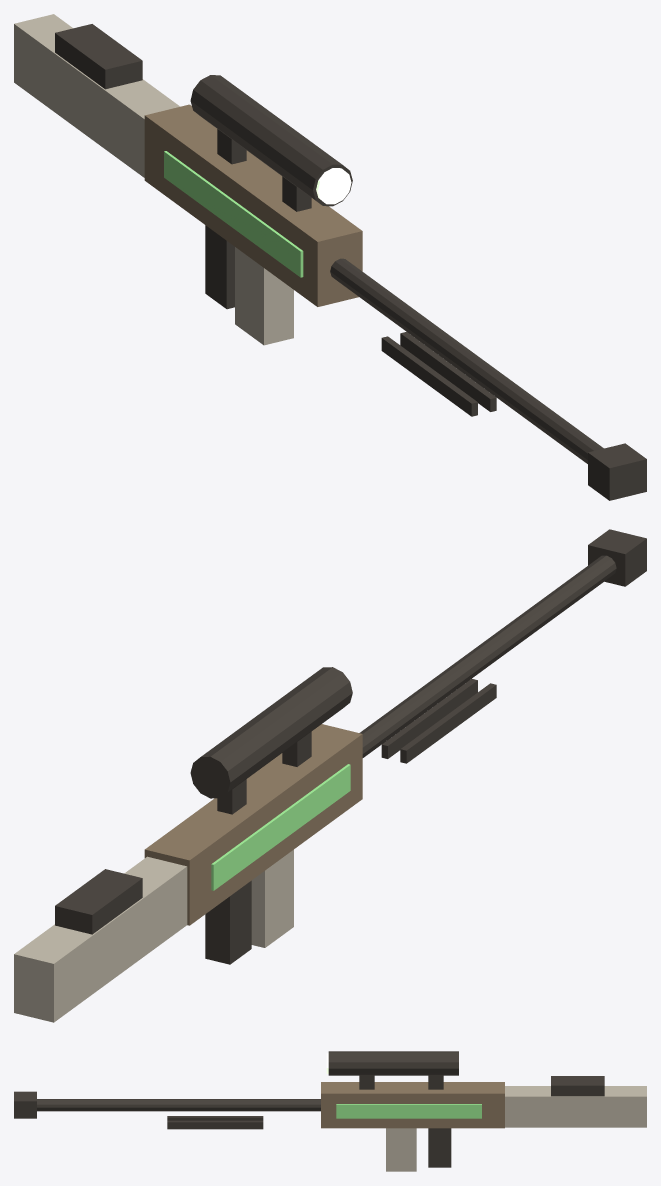
File: weapon_P_Sniper.glb
3 views of the same model, one above another, from view 1: azimuth 30°, elevation 25°; view 2: azimuth 150°, elevation 25°; view 3: azimuth 270°, elevation 25° (orthographic). The views are drawn at different scales.
Parts seen in each view (by area): view 1: Body, Mag; view 2: Body, Mag; view 3: Body, Mag.
Part boxes in pixels (bbox=[...]): Body: bbox=[14, 14, 646, 500]; Mag: bbox=[235, 247, 293, 345]; Body: bbox=[14, 529, 646, 1022]; Mag: bbox=[251, 849, 293, 947]; Body: bbox=[14, 1051, 646, 1167]; Mag: bbox=[386, 1128, 416, 1171].
Size of the model in its own units: 0.08 by 0.332 by 1.65.
